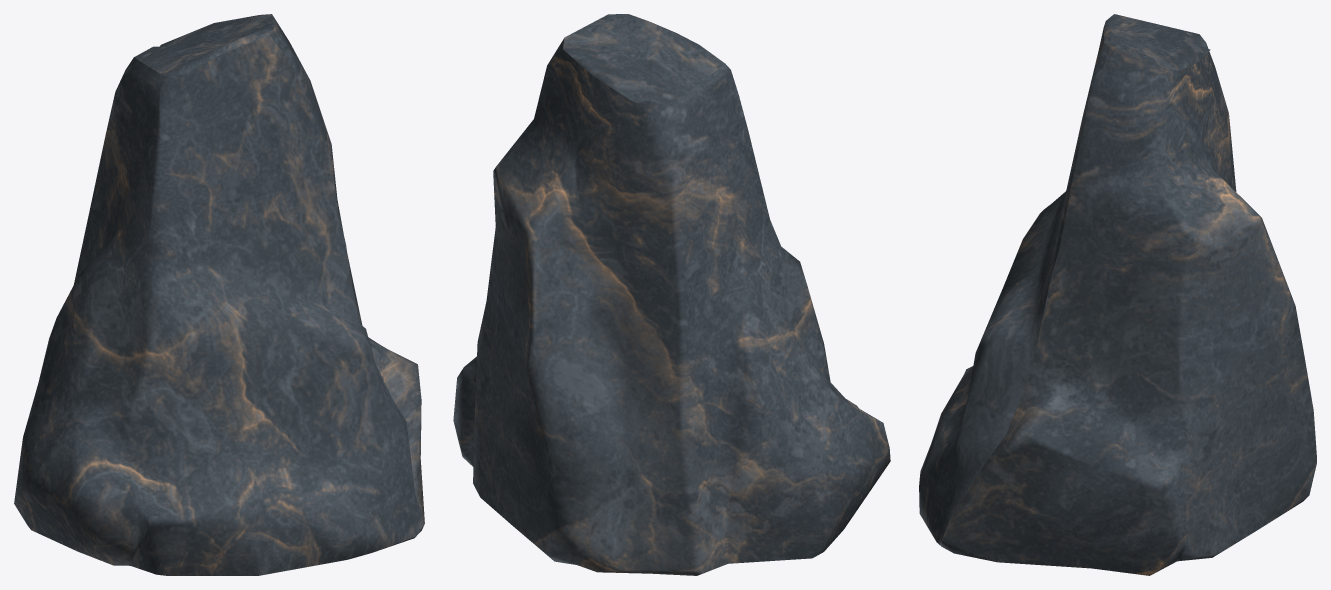
Rendered from Rocher03_low_LOD2.fbx.
3 renders of one model, left to right at view 1: azimuth 30°, elevation 25°; view 2: azimuth 150°, elevation 25°; view 3: azimuth 270°, elevation 25°, orthographic. The views are drawn at different scales.
Parts seen in each view (by area): view 1: Rocher03_low_0; view 2: Rocher03_low_0; view 3: Rocher03_low_0.
Boxes of the visible parts, x1,y1,x2,y2 form: Rocher03_low_0: (14,14,424,575); Rocher03_low_0: (453,14,890,575); Rocher03_low_0: (919,14,1316,575).
Bounding box in the file's own units: 17.3 × 20.61 × 15.61.
1 material, 1 textured.
